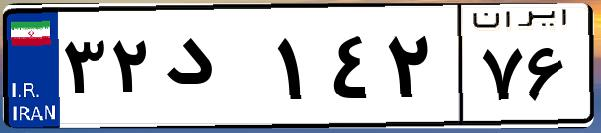1: (270, 28, 330, 110)
2: (385, 28, 445, 110), (110, 28, 158, 98)
3: (57, 26, 110, 100)
4: (330, 28, 385, 110)
6: (525, 38, 570, 115)
7: (475, 38, 525, 113)
د: (158, 20, 270, 120)
